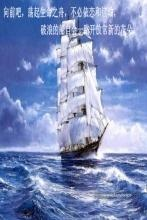fanchuan: (54, 17, 112, 162)
